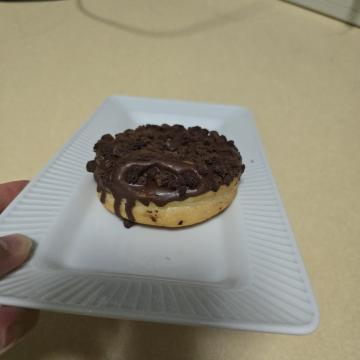doughnut: (110, 108, 250, 286)
